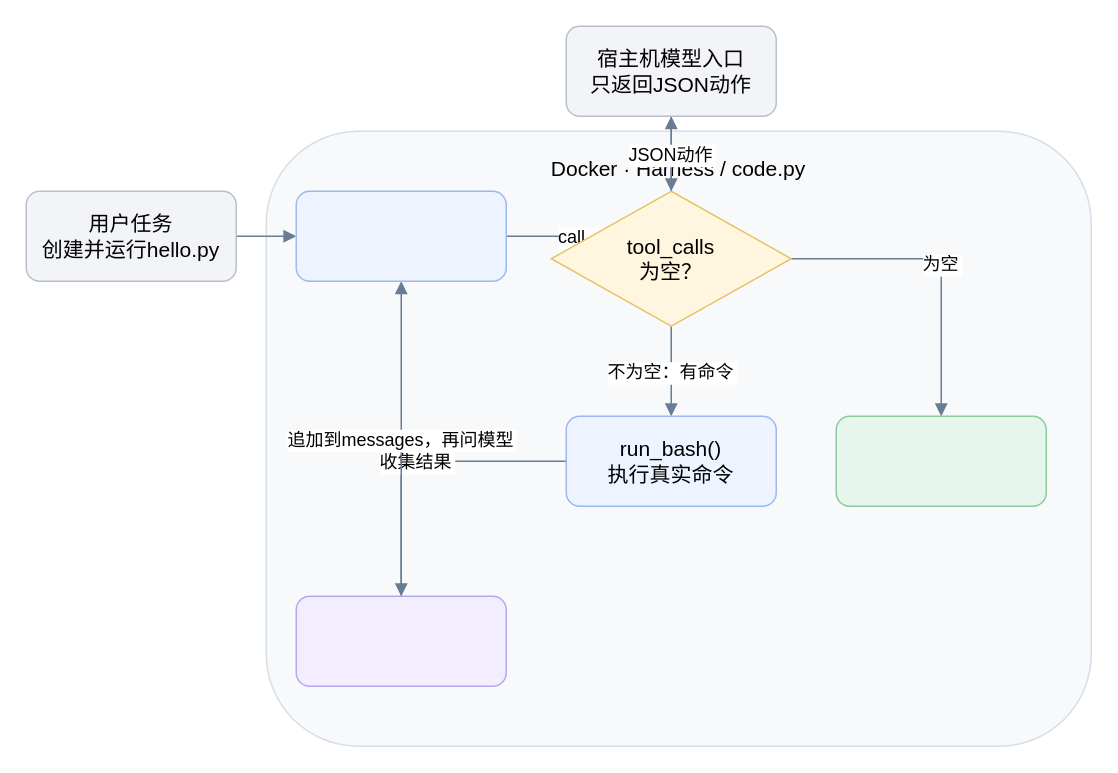
Image size: 1118x773. Some labels were removed from this diagram. Here are the shapes that lost their labels. From the top down, the box of each, then its label:
(295, 190, 506, 281): messages 任务与工具结果
(835, 415, 1046, 506): finished 模型停止调用工具
(295, 595, 506, 686): 真实工具结果 输出 / 错误 / 退出码
